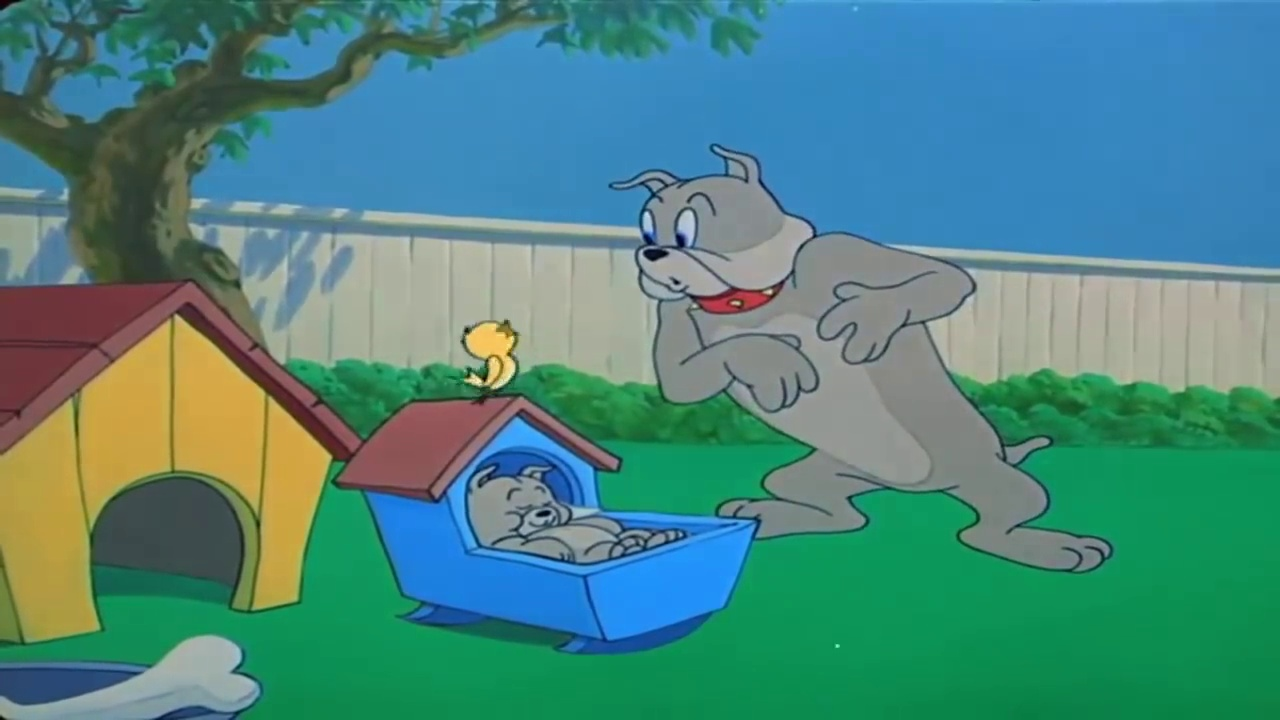spike: (608, 141, 819, 319)
